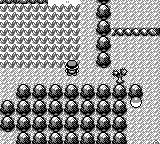captura: (1, 4, 80, 68)
main: (65, 61, 79, 76)
mo: (112, 69, 128, 84)
no-caminable: (0, 84, 142, 143), (96, 1, 111, 68)
poke-ball: (130, 97, 143, 109)
salto: (112, 28, 159, 36), (1, 0, 48, 3)
